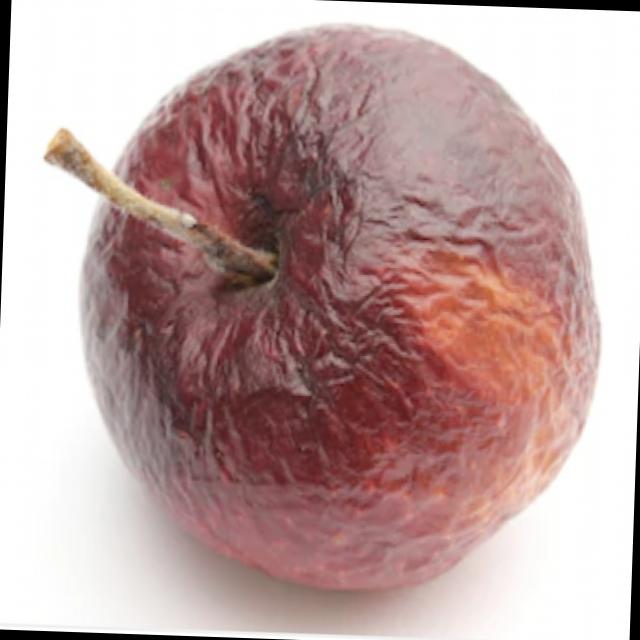rotten_apple: (20, 16, 612, 604)
